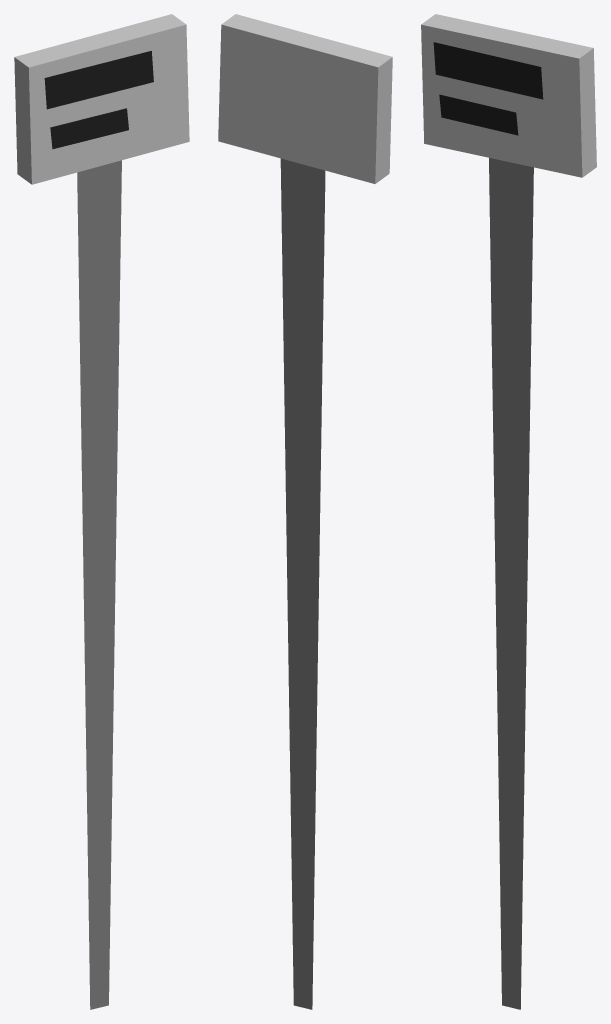
Rendered from price_tag.fbx.
3 views of the same model, side by side, from view 1: azimuth 30°, elevation 25°; view 2: azimuth 150°, elevation 25°; view 3: azimuth 330°, elevation 25° (orthographic).
Visible parts, largest first — view 1: price_tag; view 2: price_tag; view 3: price_tag.
Boxes of the visible parts, box(x1,y1,x2,y2) form: price_tag: box(14, 14, 189, 1009); price_tag: box(218, 14, 392, 1009); price_tag: box(421, 14, 596, 1009).
Size of the model in its own units: 3.19 by 18.39 by 0.5533.
